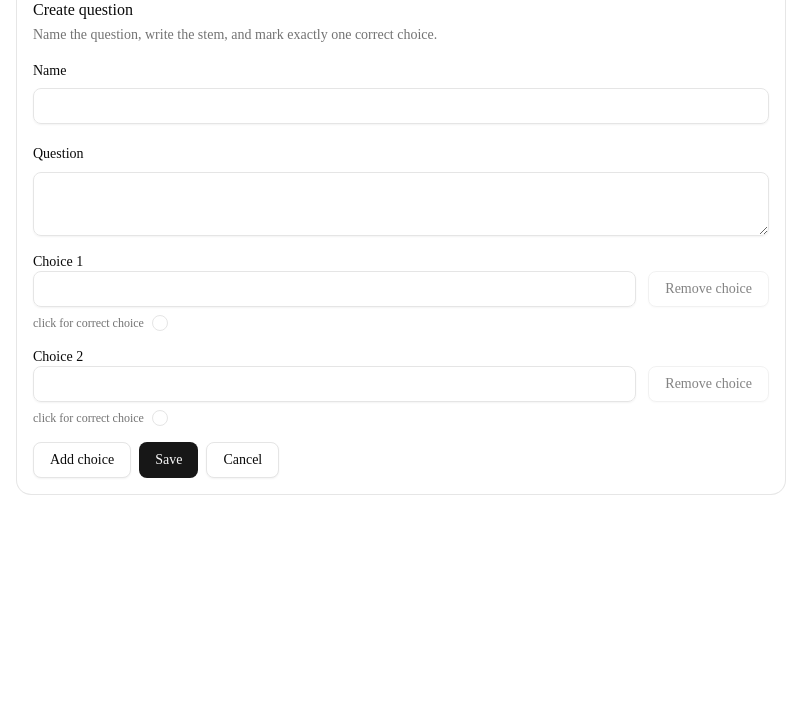
it: McqForm › Add choice adds a third field and is disabled at six
This screenshot has width=803, height=703.
What coordinates should you click on to do the following:
click the button "Add choice"
I would click on:
 (82, 460)
Its box is [33,442,131,478].
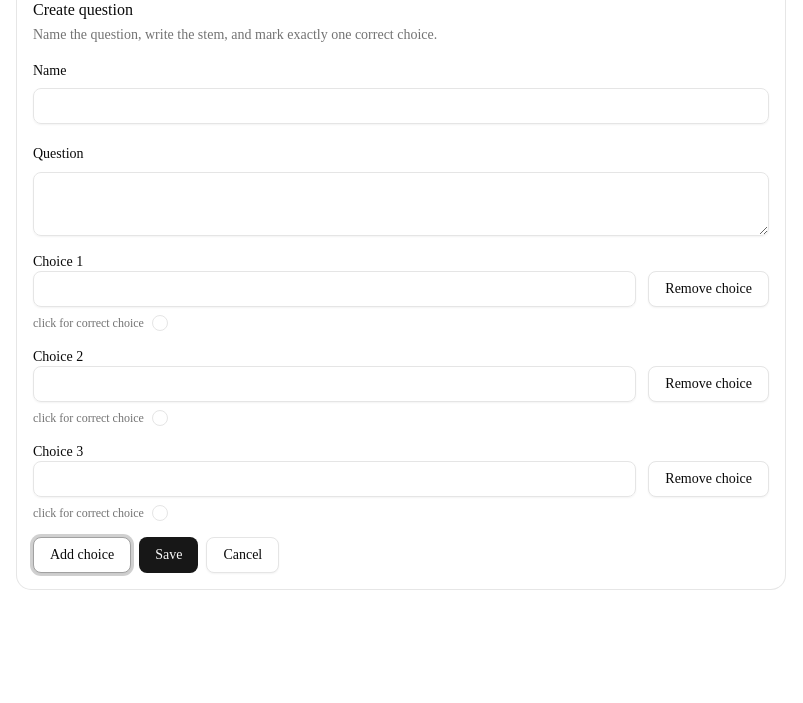
Expected: the field labelled "Choice 3" is shown, [33,461,636,497]
What coordinates should you click on to do the following:
click the button "Add choice"
I would click on:
 (82, 555)
Its box is [33,537,131,573].
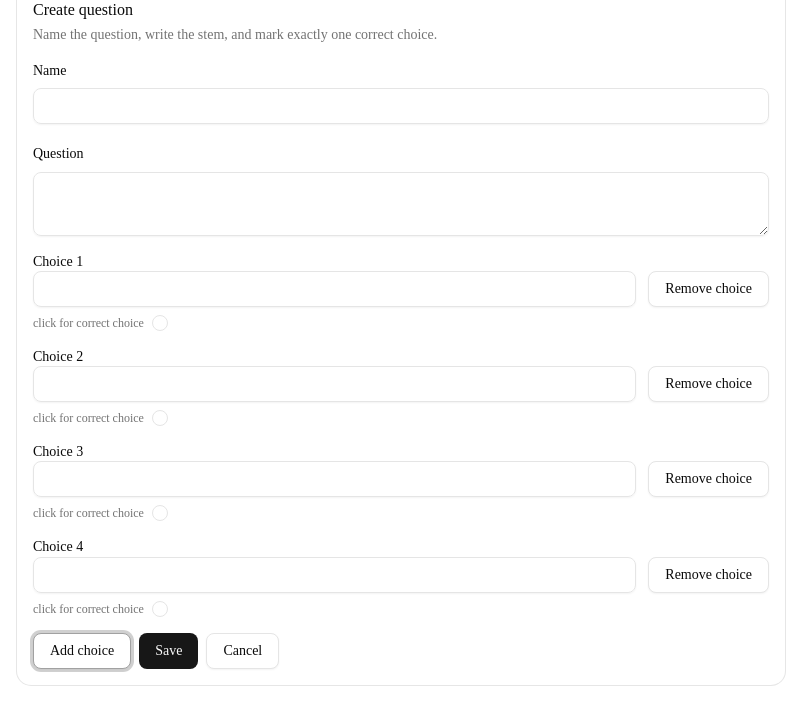
What coordinates should you click on to do the following:
click the button "Add choice"
I would click on:
 (82, 650)
Its box is [33,632,131,668].
(page scrolled)
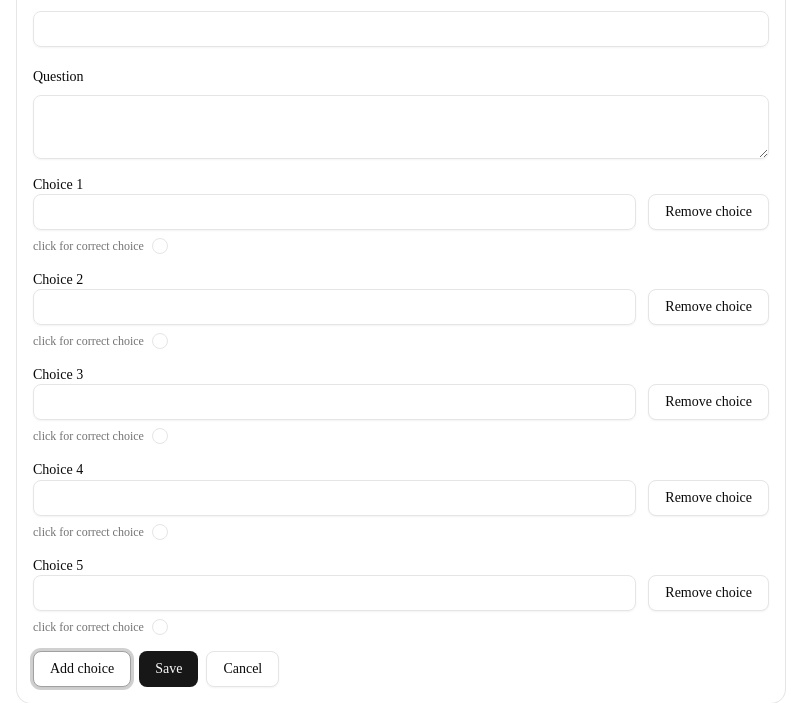
What coordinates should you click on to do the following:
click the button "Add choice"
I would click on:
 (82, 669)
Its box is [33,651,131,687].
(page scrolled)
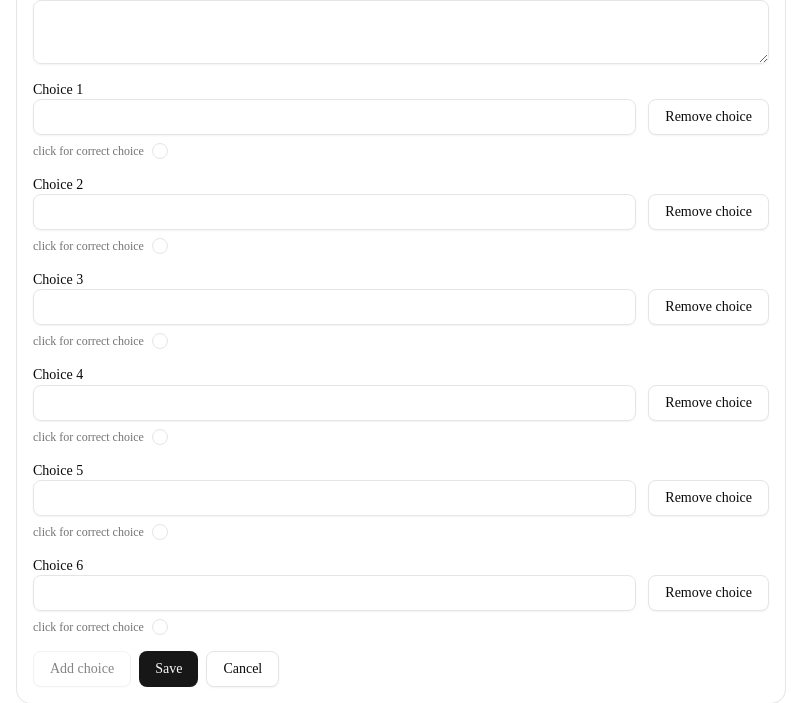
Expected: the field labelled "Choice 6" is shown, [33,575,636,611]
Expected: the button "Add choice" is disabled, [33,651,131,687]
